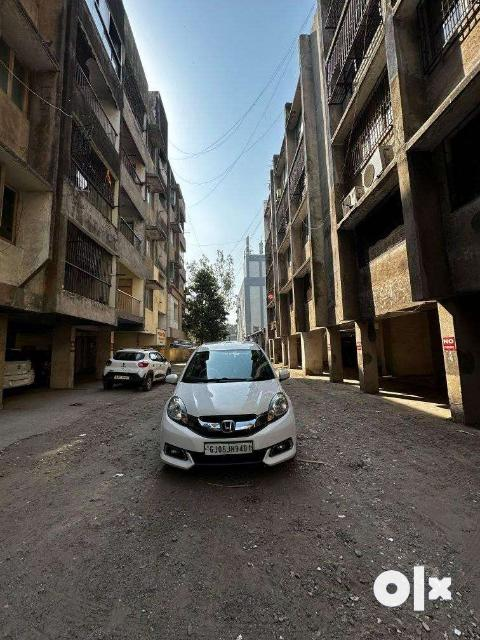Indian_Number_Plate: (204, 442, 254, 454)
